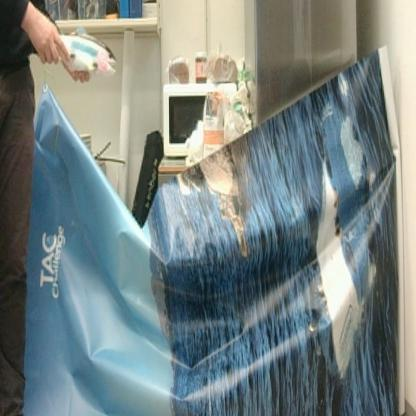rubberfish: (40, 25, 120, 80)
